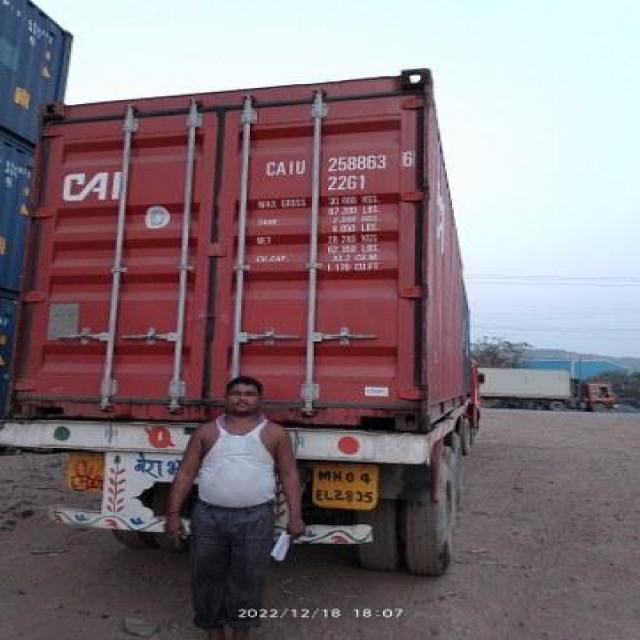container_number_h: (222, 135, 475, 196)
